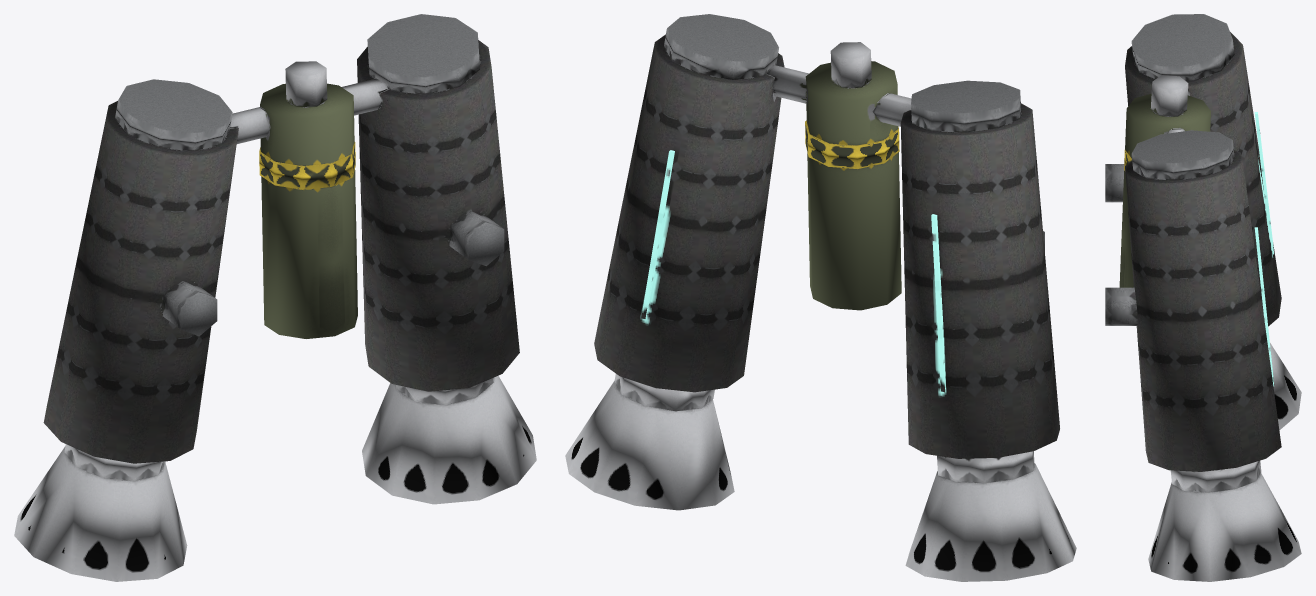
File: kr5_ram_thrusters.gltf
3 views of the same model, side by side, from view 1: azimuth 30°, elevation 25°; view 2: azimuth 150°, elevation 25°; view 3: azimuth 270°, elevation 25° (orthographic). The views are drawn at different scales.
Visible parts, largest first — view 1: B_chest__kr5_ram_thrusters; view 2: B_chest__kr5_ram_thrusters; view 3: B_chest__kr5_ram_thrusters.
Part boxes in pixels (x1,y1,x2,y2): B_chest__kr5_ram_thrusters: [14, 14, 536, 581]; B_chest__kr5_ram_thrusters: [565, 14, 1076, 581]; B_chest__kr5_ram_thrusters: [1105, 14, 1301, 581].
Bounding box in the file's own units: 0.3369 × 0.3002 × 0.1301.
Materials: 1 (1 with a texture image).
